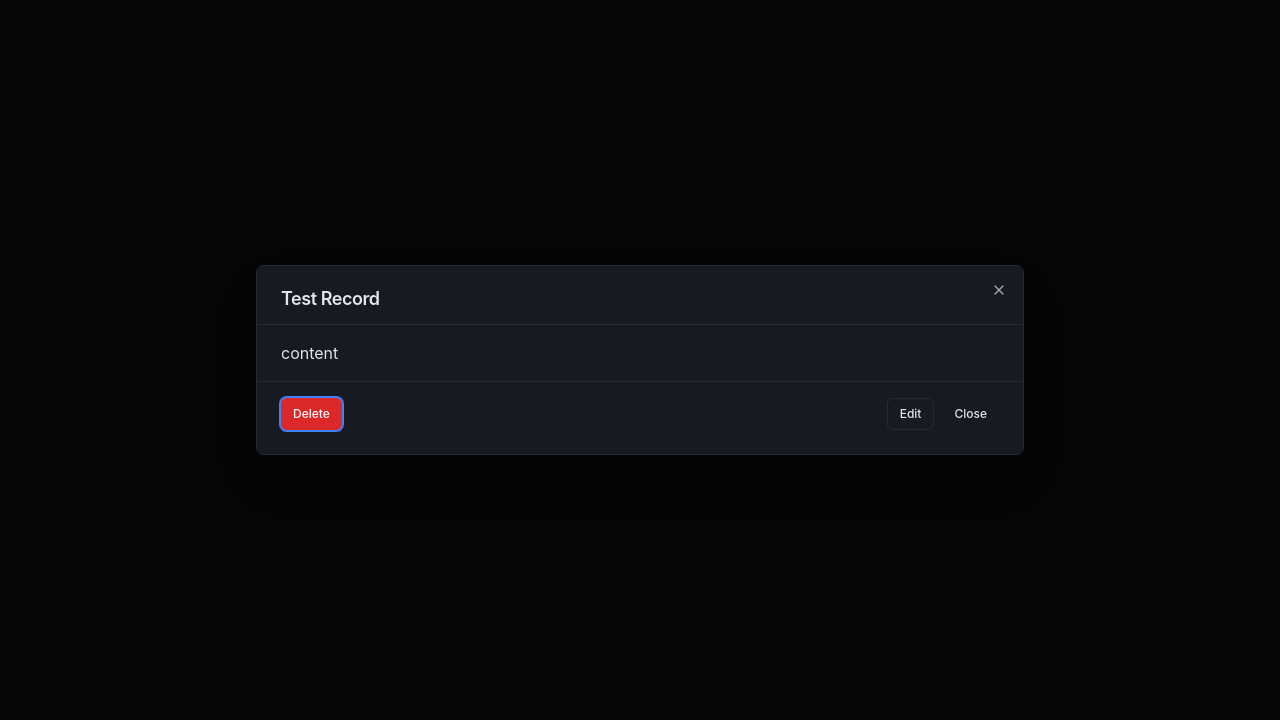
Scenario: RecordModal — view mode › cancels view mode delete confirmation and restores Delete button
Click the button "Delete" at (311, 414), box [281, 398, 342, 430]
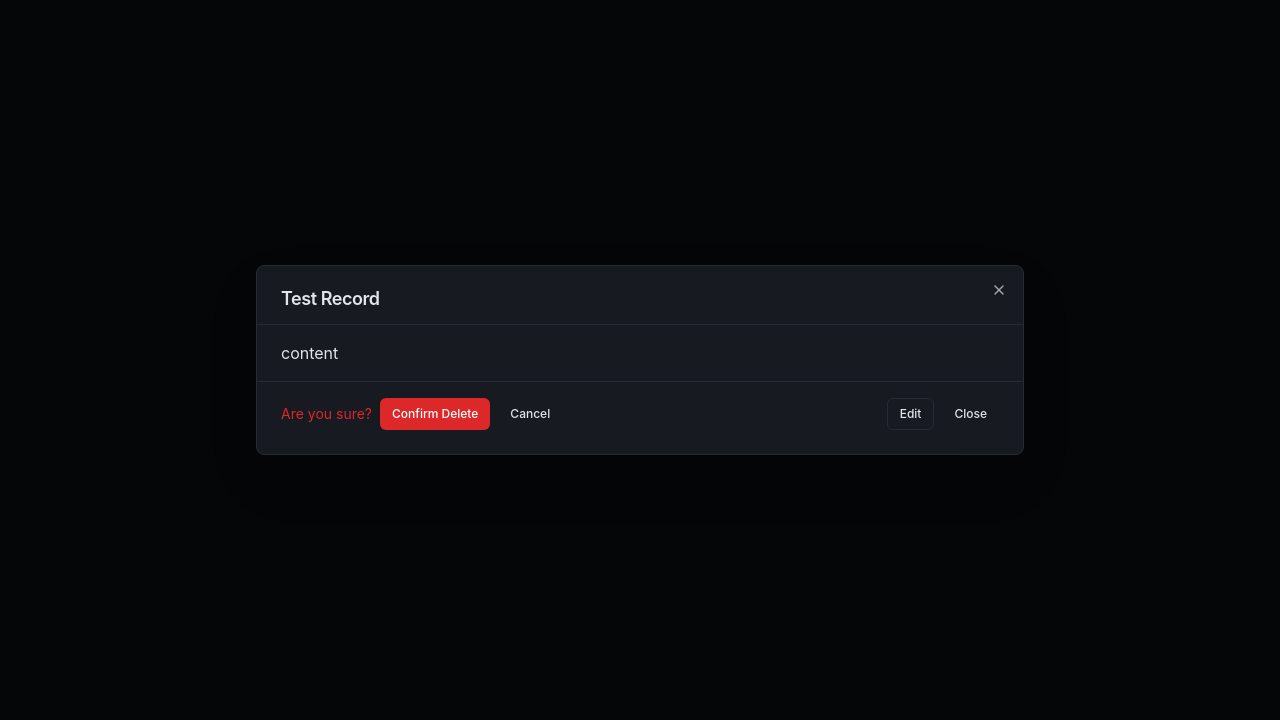
Click the button "Cancel" at (530, 414), box [498, 398, 562, 430]
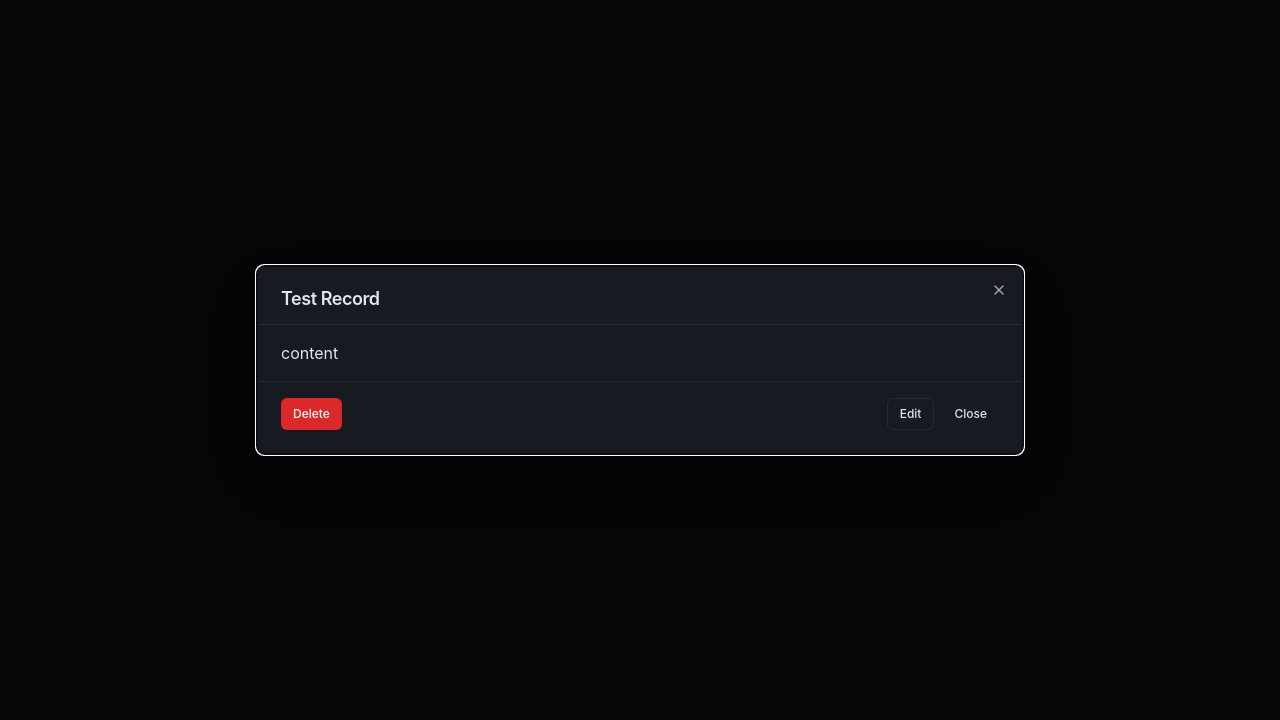
expect the button "Delete" is shown: met, box [281, 398, 342, 430]
expect the text "Are you sure?" is gone: met
